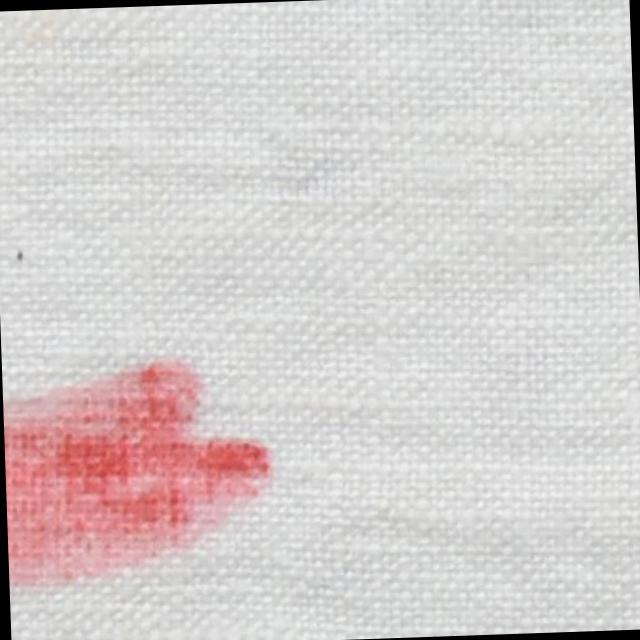Stain: (1, 352, 278, 590), (10, 248, 28, 266)
